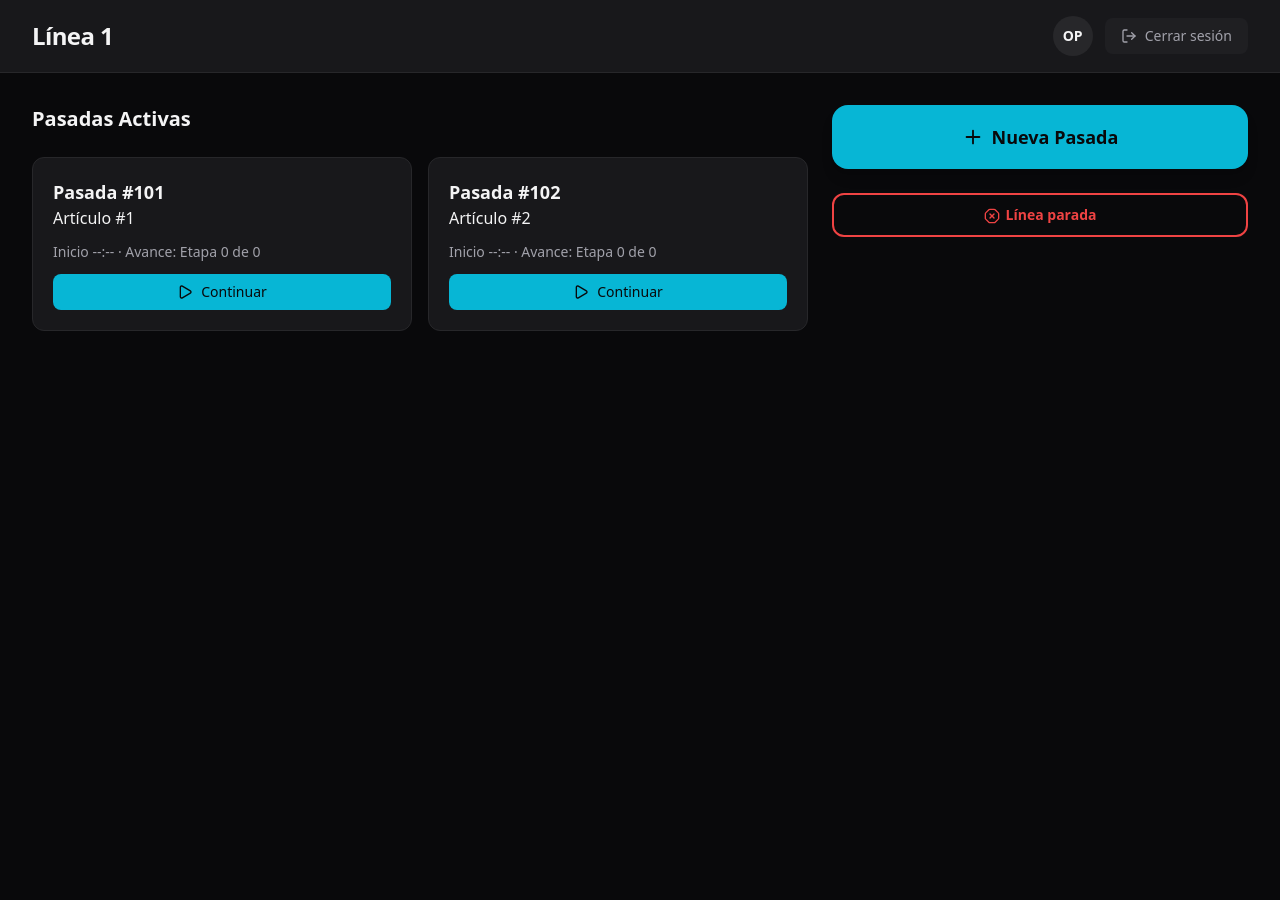
it: GestionPasadasPage › lista primero la balanza asignada a la línea, aunque el backend la devuelva más abajo
Step 1. Click the button "Nueva Pasada" → (1040, 137), box left=832, top=105, right=1248, bottom=169
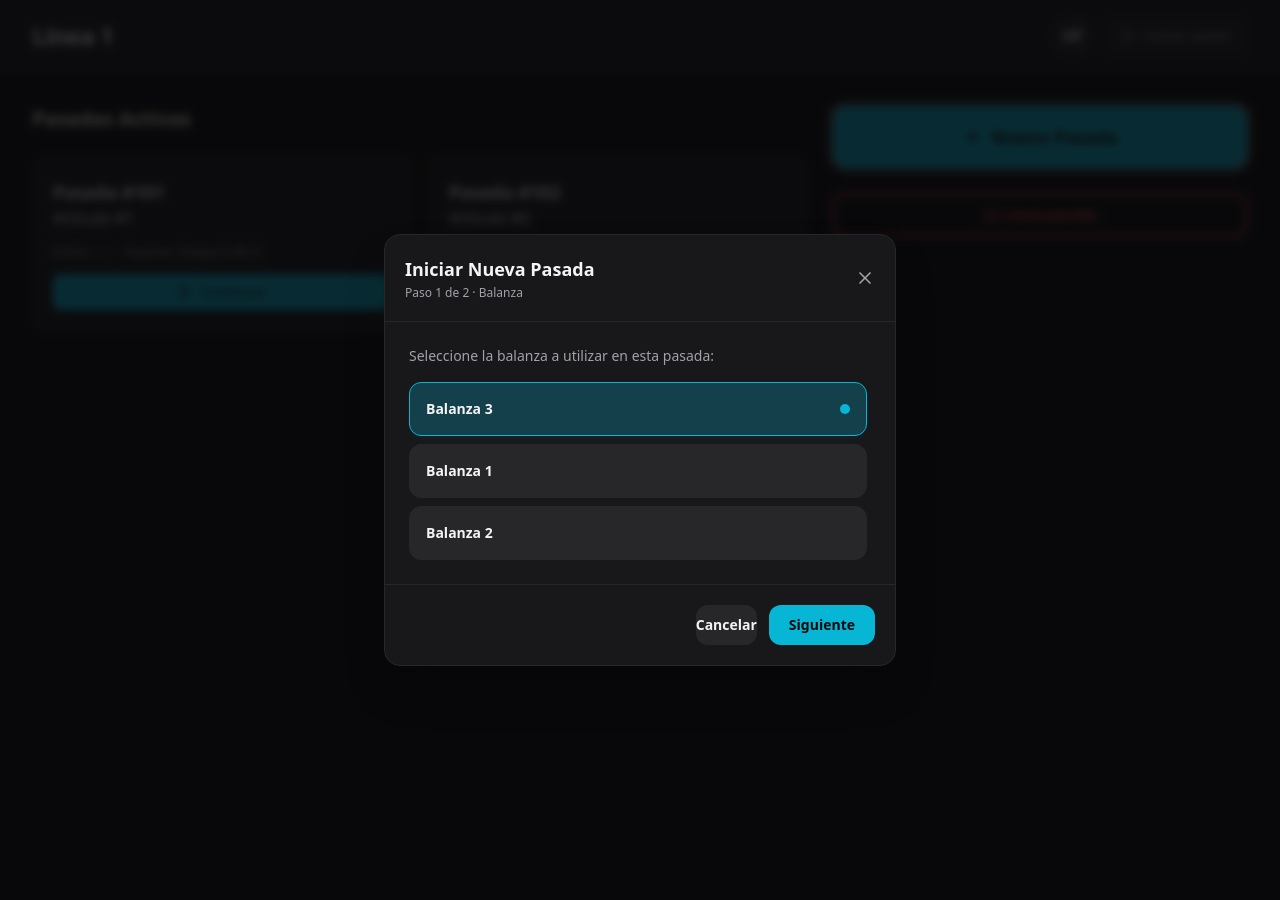
Expected: the heading "Iniciar Nueva Pasada" is shown, left=405, top=255, right=595, bottom=283
